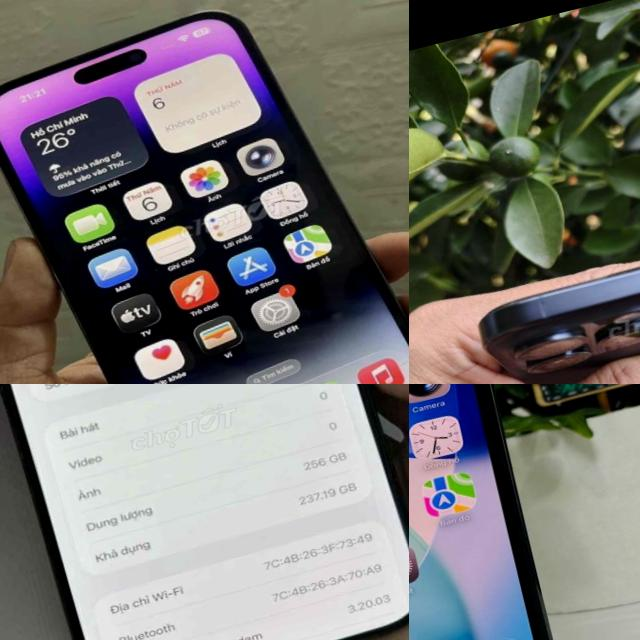gen_11: (409, 384, 583, 640)
gen_14: (0, 0, 409, 384)
gen_15: (0, 384, 409, 640), (464, 222, 640, 384)
